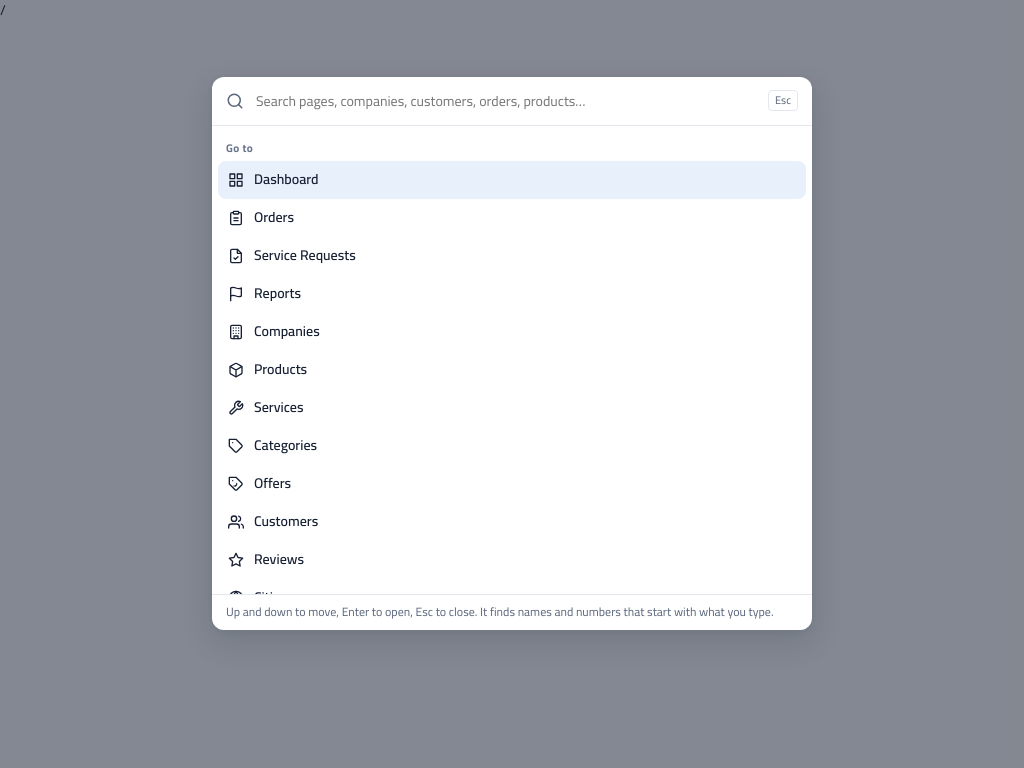
Test: searching the records › says a kind could not be searched, and still shows the others
This screenshot has width=1024, height=768.
Type "nile" into the dropdown at [506, 101], box [254,77,758,125]
Wait 300 ms
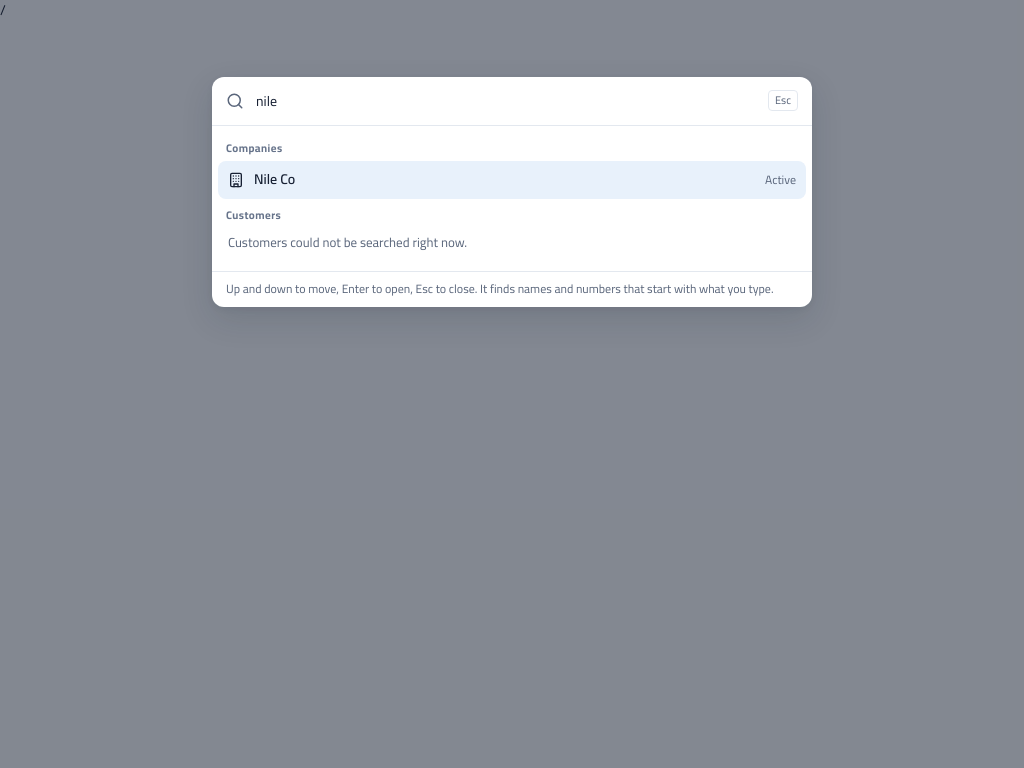
Expected: the text "Customers could not be searched right now." is shown, [228,230,467,254]
Expected: the option shows "Nile Co", [218,161,806,199]
